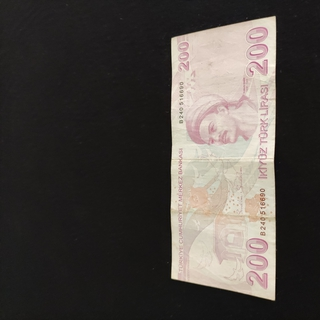200TLBack: (169, 14, 277, 301)
